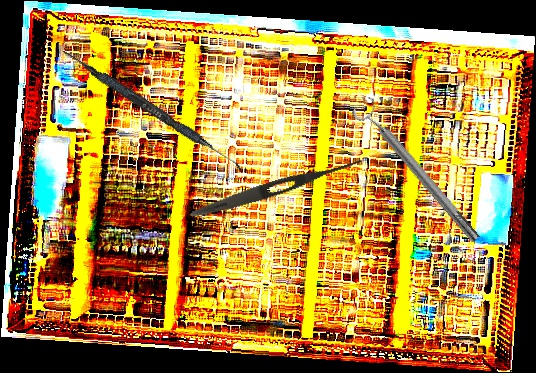Dressing Forceps: (188, 151, 367, 223)
Fixation Ring: (350, 94, 486, 250)
Spatula Surgical: (59, 48, 247, 172)
